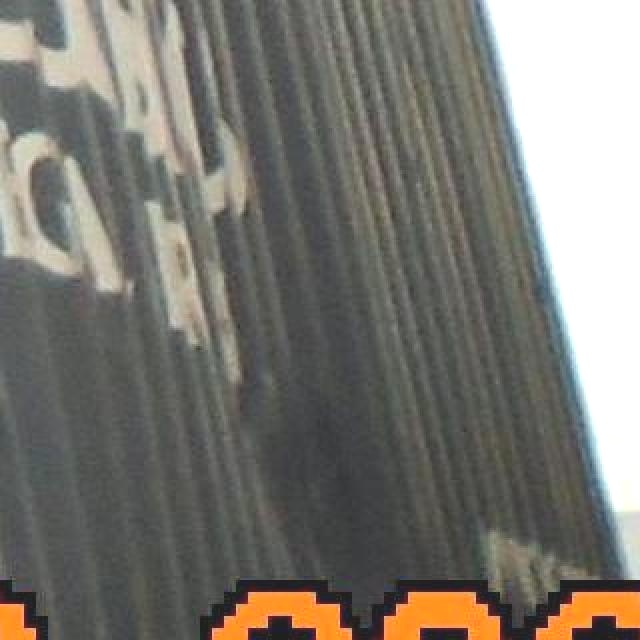Dent: (215, 240, 407, 572)
